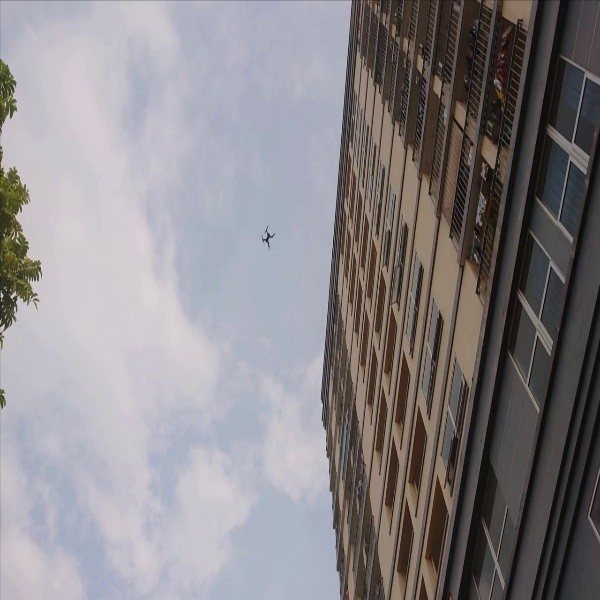drone: (256, 222, 277, 248)
